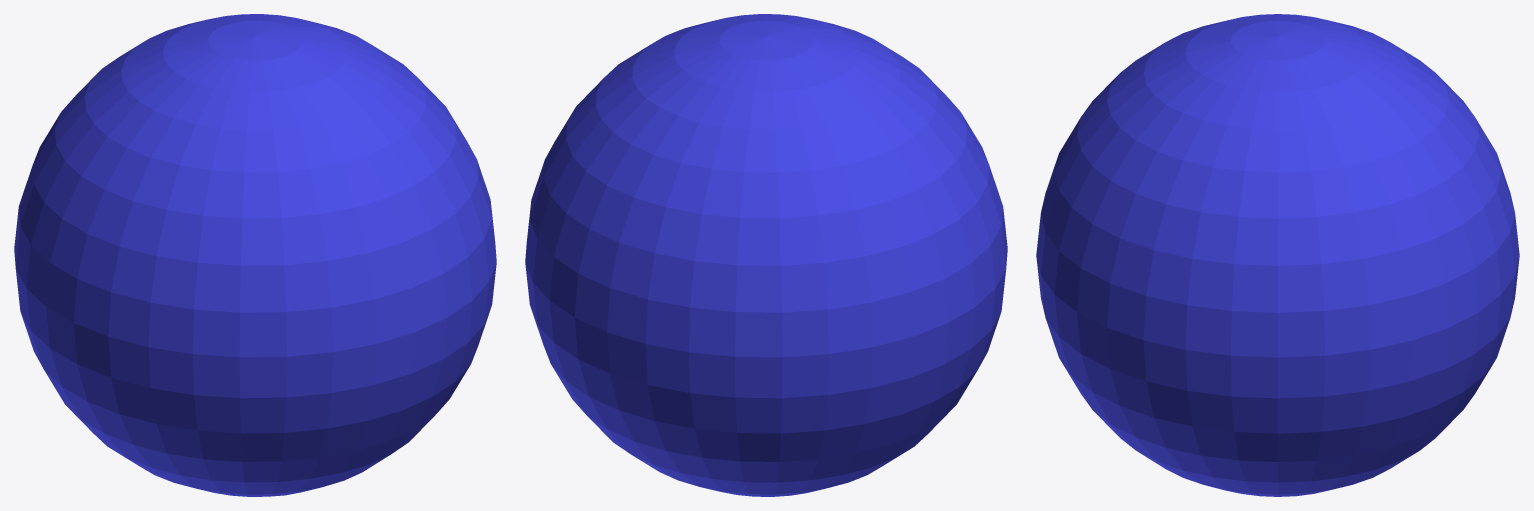
Rendered from blue sircl.fbx.
The picture shows the model from 3 angles, left to right: view 1: azimuth 30°, elevation 25°; view 2: azimuth 150°, elevation 25°; view 3: azimuth 270°, elevation 25°; orthographic projection.
Parts seen in each view (by area): view 1: Sphere; view 2: Sphere; view 3: Sphere.
Boxes of the visible parts, x1,y1,x2,y2 form: Sphere: (14,14,496,496); Sphere: (525,14,1007,496); Sphere: (1036,14,1519,496).
Bounding box in the file's own units: 200 × 200 × 200.
